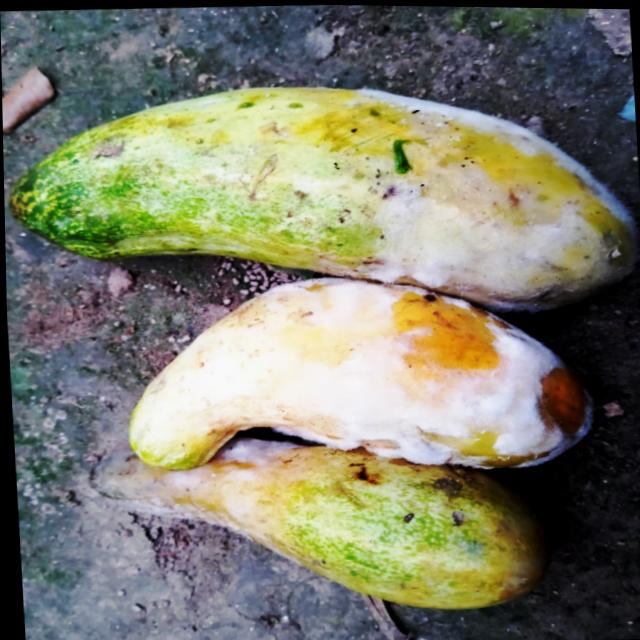Pythium-Fruit-Rot: (181, 255, 599, 481), (308, 68, 640, 319), (71, 399, 315, 551)
